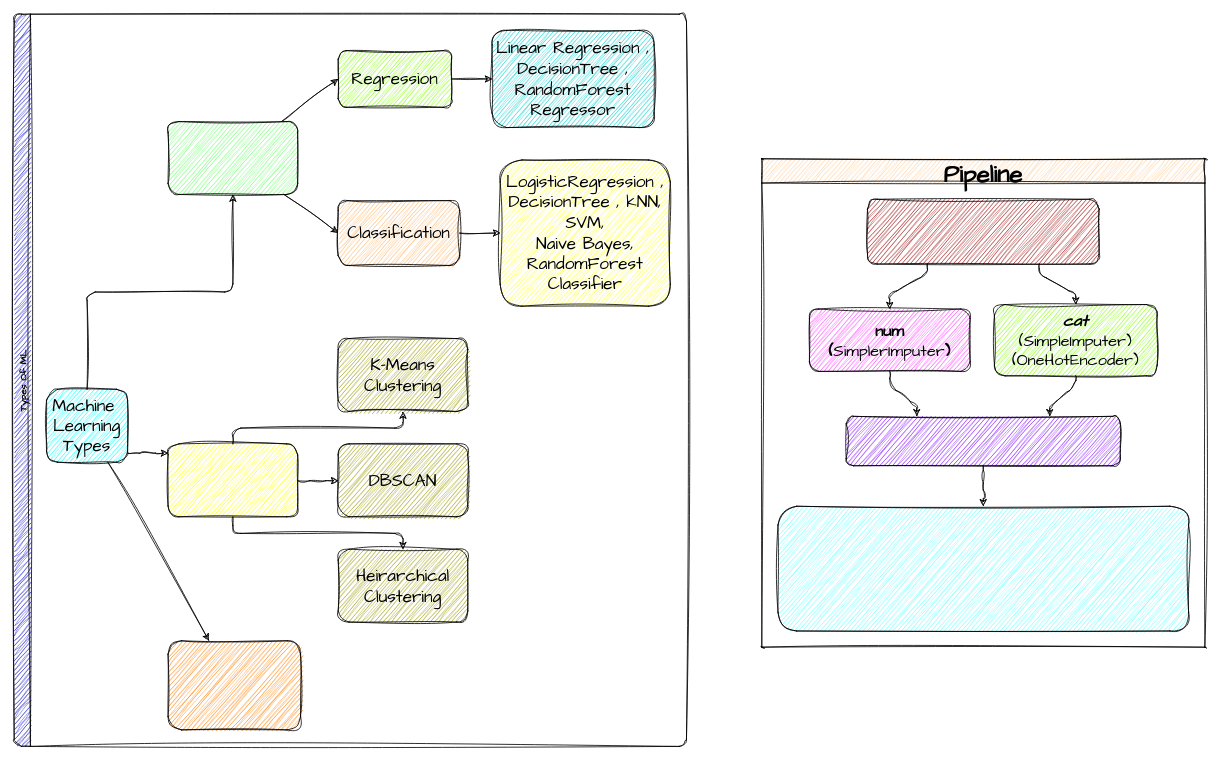
The diagram is 1219 pixels wide and 761 high, and some of its shapes have lost their labels. The shapes that lost their labels are listed below. From the top down, each one's centre as x and y in pixels, then its label:
At (232,157): "Supervised Learning".
At (983,231): "FunctionTransformer".
At (982,441): "RandomForest/Decision Tree/SVM".
At (232,480): "Unsupervised Learning".
At (983,568): "RandomForest Classifier (89.99% Accuracy)".
At (234,685): "Reinforcement Learning".
